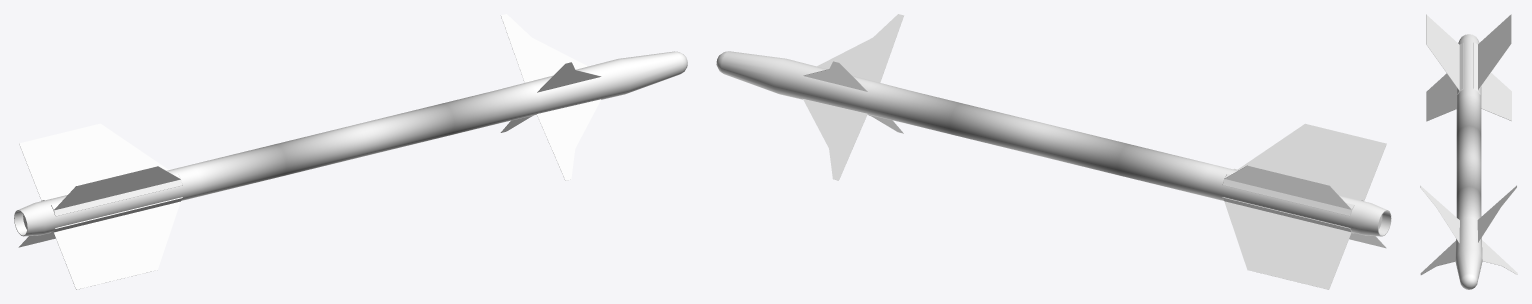
The model's file is AIM-9.glb.
The picture shows the model from 3 angles, left to right: view 1: azimuth 30°, elevation 25°; view 2: azimuth 150°, elevation 25°; view 3: azimuth 270°, elevation 25°; orthographic projection. The views are drawn at different scales.
Visible parts, largest first — view 1: M_Aim_9_Sidewinder_D.001; view 2: M_Aim_9_Sidewinder_D.001; view 3: M_Aim_9_Sidewinder_D.001.
Boxes of the visible parts, <box> form: M_Aim_9_Sidewinder_D.001: <box>14,14,687,289</box>; M_Aim_9_Sidewinder_D.001: <box>716,14,1391,289</box>; M_Aim_9_Sidewinder_D.001: <box>1420,14,1517,289</box>.
Bounding box in the file's own units: 2.94 × 0.5 × 0.5.
Materials: 1 (1 with a texture image).
